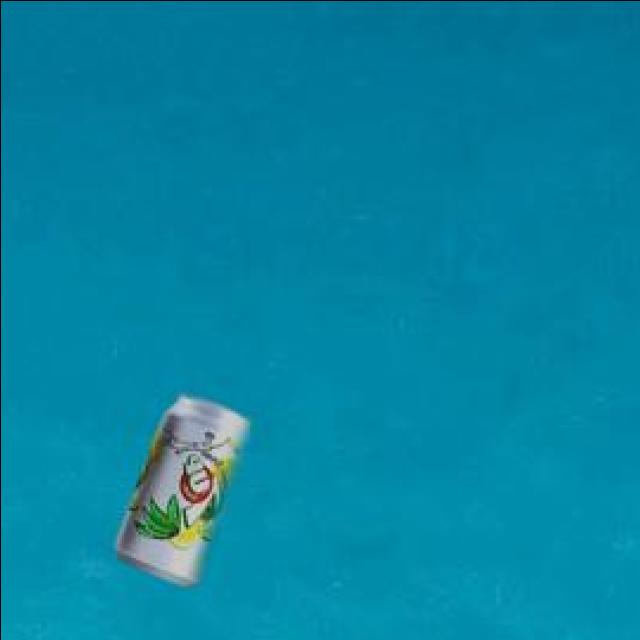logam: (120, 390, 250, 582)
